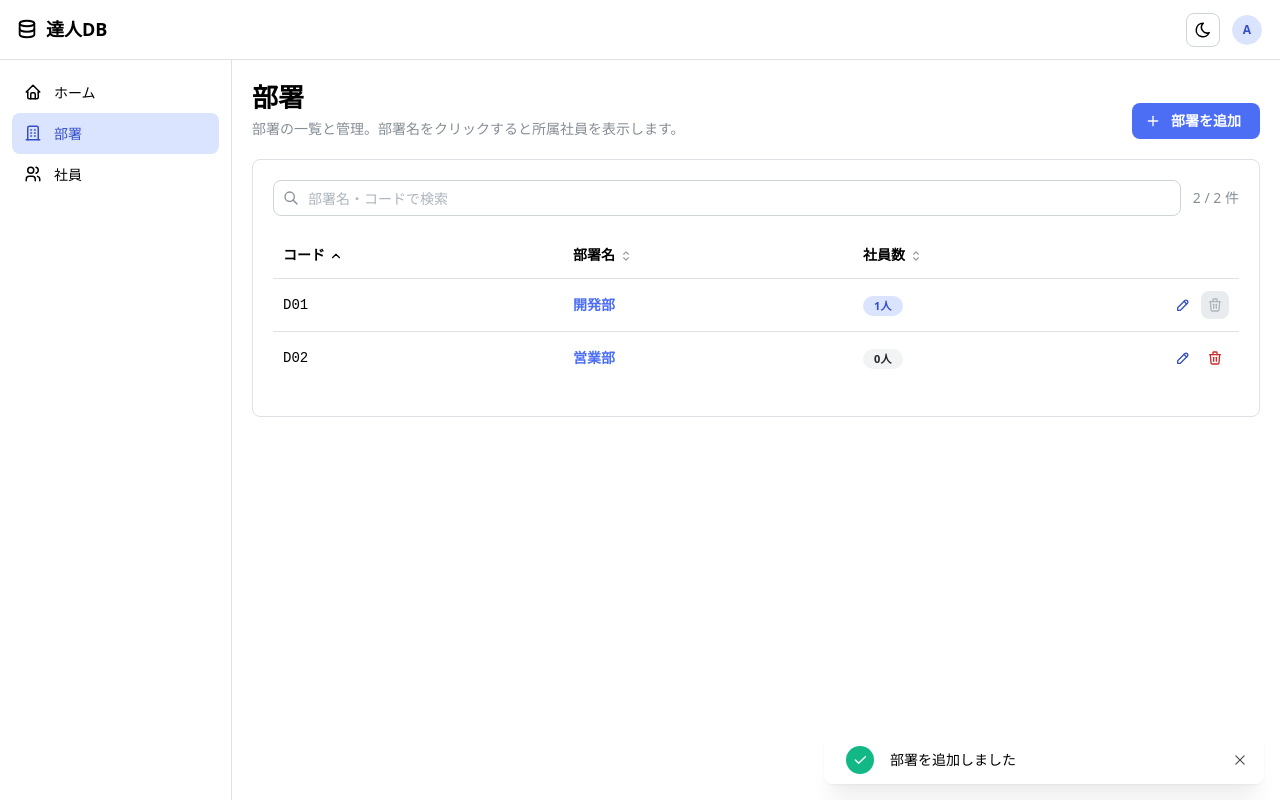
部署 › 削除は確認モーダルを経由し、409 のときはエラー通知を出す
Click the button named "営業部を削除".
click(1215, 358)  # box [1201, 344, 1229, 372]
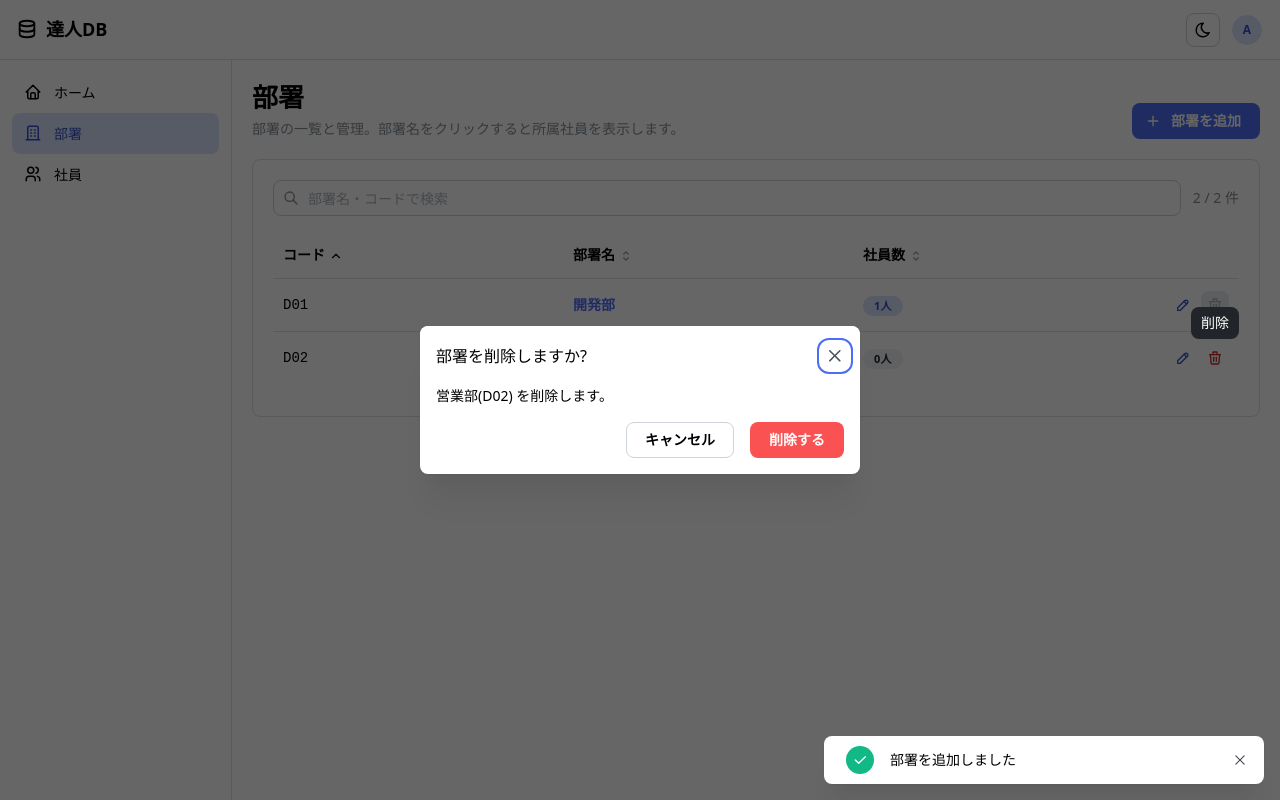
Check: the text "営業部(D02) を削除します。" is shown, box [436, 386, 613, 405]
Click the button "削除する".
click(797, 440)  # box [750, 422, 844, 458]
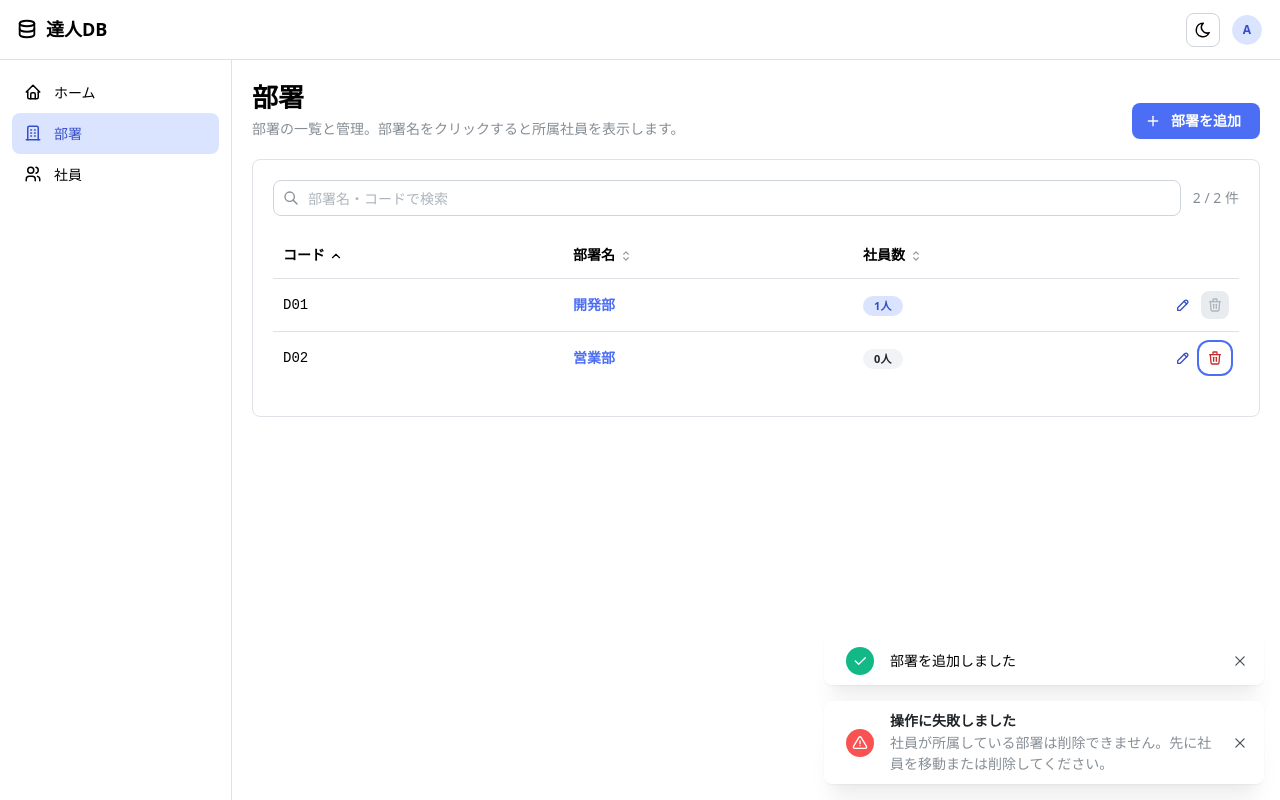
Check: the text "社員が所属している部署は削除できません。先に社員を移動または削除してください。" is shown, box [890, 733, 1216, 774]
